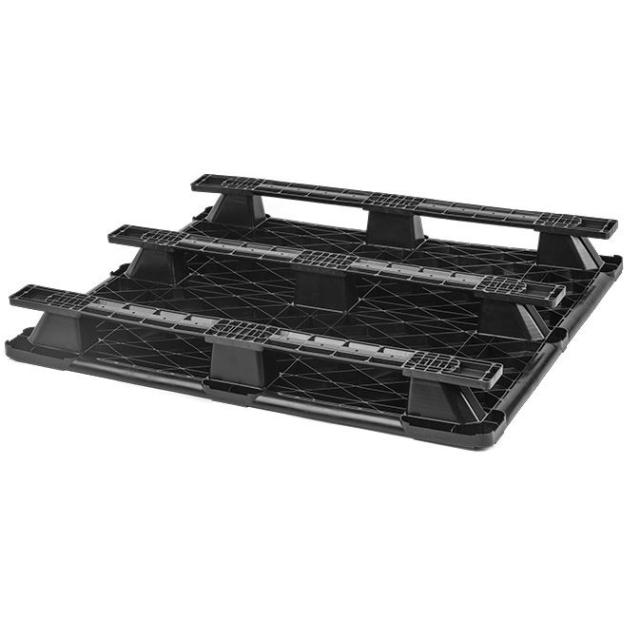non-igps: (0, 169, 629, 455)
